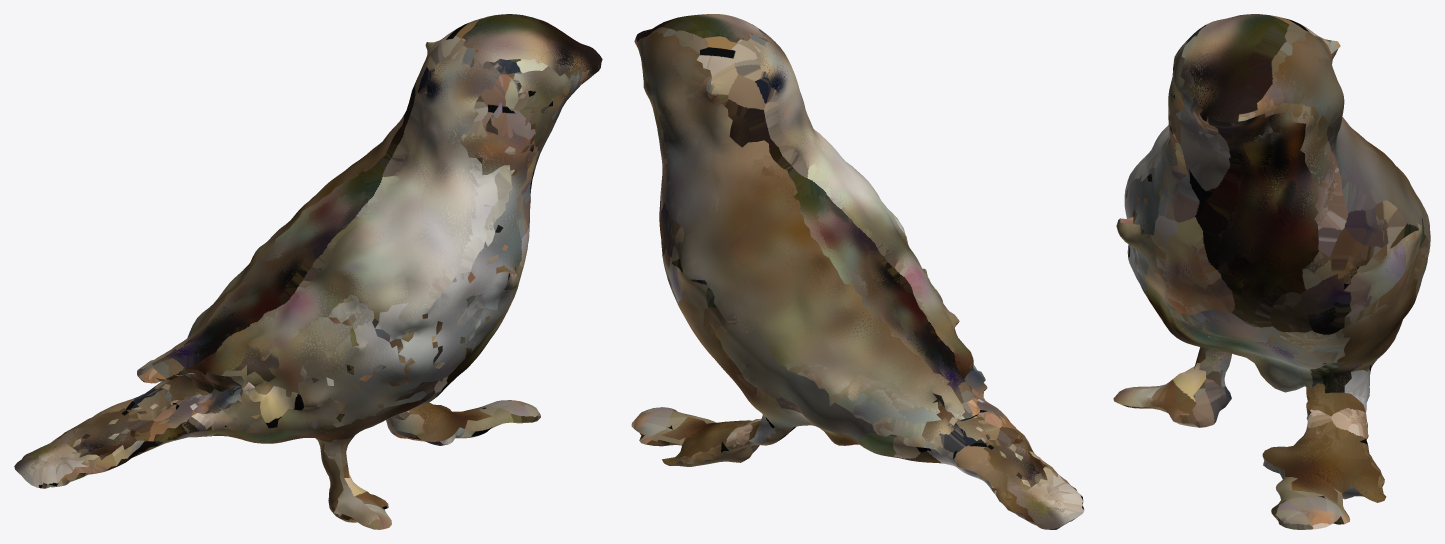
The model's file is bird_rgba_mesh.obj.
The picture shows the model from 3 angles, left to right: view 1: azimuth 30°, elevation 25°; view 2: azimuth 150°, elevation 25°; view 3: azimuth 270°, elevation 25°; orthographic projection. The views are drawn at different scales.
Size of the model in its own units: 1.18 by 0.9423 by 0.5477.
Materials: 1 (1 with a texture image).
